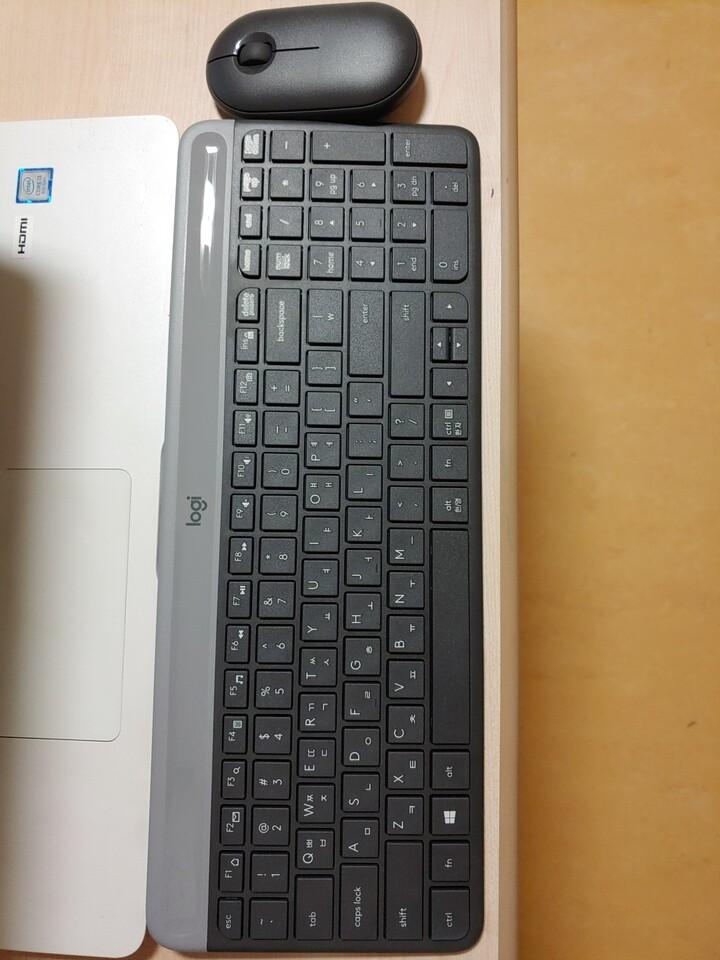keyboard: (146, 117, 489, 955)
mouse: (204, 0, 423, 122)
